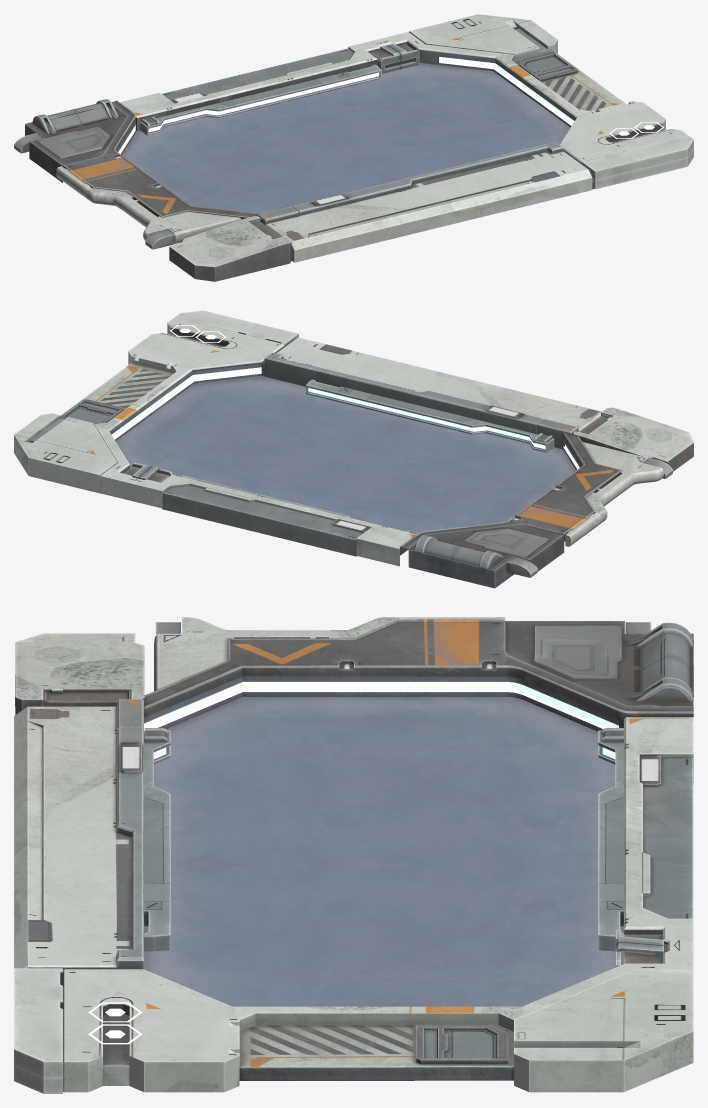
Rendered from tablet.fbx.
3 views of the same model, one above another, from view 1: azimuth 30°, elevation 25°; view 2: azimuth 150°, elevation 25°; view 3: azimuth 270°, elevation 25° (orthographic). The views are drawn at different scales.
Parts seen in each view (by area): view 1: Black.014; view 2: Black.014; view 3: Black.014.
Part boxes in pixels (x1,y1,x2,y2): Black.014: [14, 14, 693, 281]; Black.014: [14, 310, 693, 588]; Black.014: [14, 617, 693, 1093].
Bounding box in the file's own units: 30.52 × 1.67 × 19.69.
Materials: 1 (1 with a texture image).
